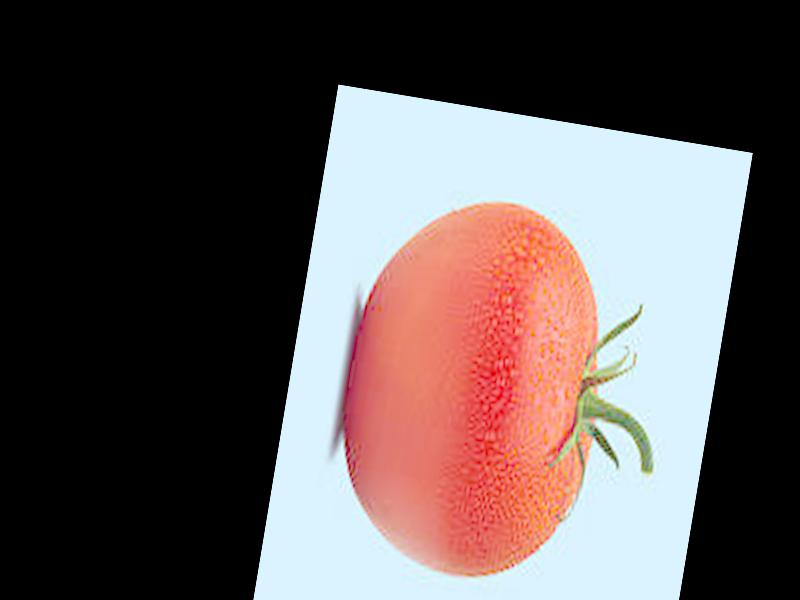Tomato: (323, 181, 625, 592)
